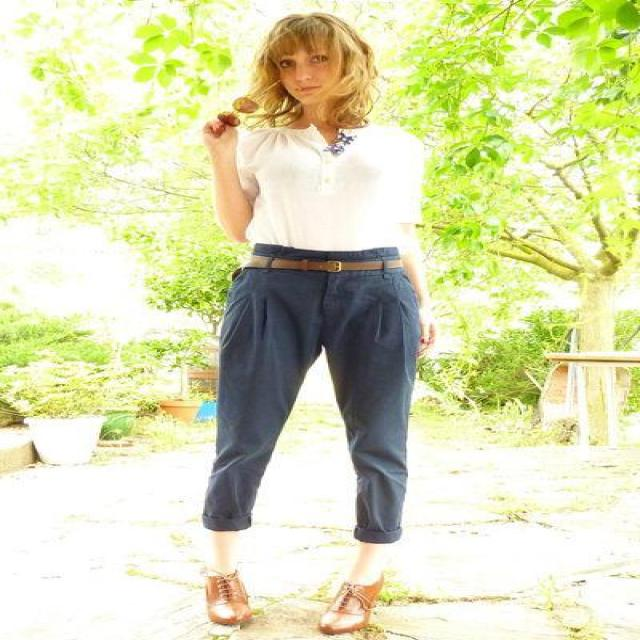pants: (202, 269, 428, 543)
shirt: (250, 120, 433, 255)
shoe: (198, 576, 386, 639)
